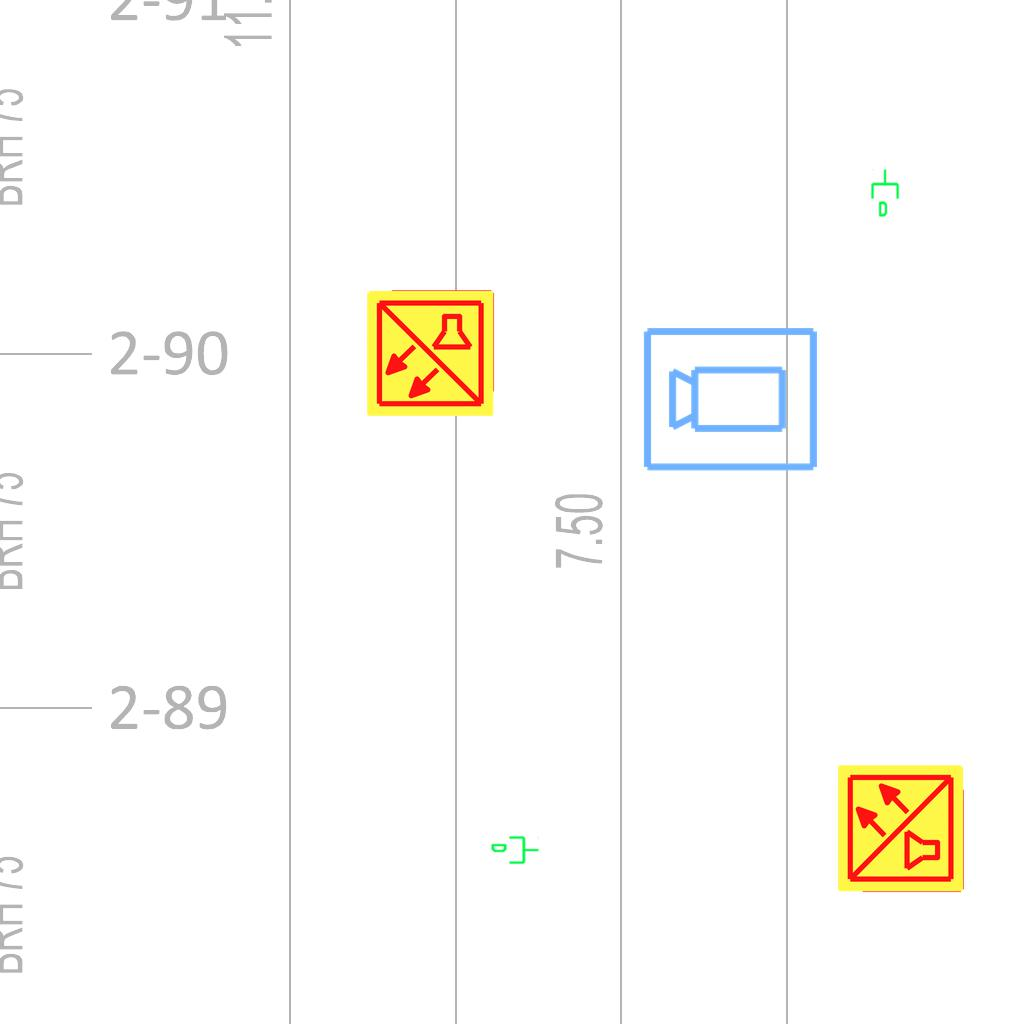Datenanschluss_einfach: (490, 834, 540, 868), (869, 168, 903, 218)
KFO_Kamera_mit_Festobjektiv: (640, 321, 822, 475)
OKW_Multisensormelder_(Kombination_optischer_Rauch-Kahlenmonoxid_Waerme-Melder): (835, 762, 967, 894), (364, 287, 496, 419)
